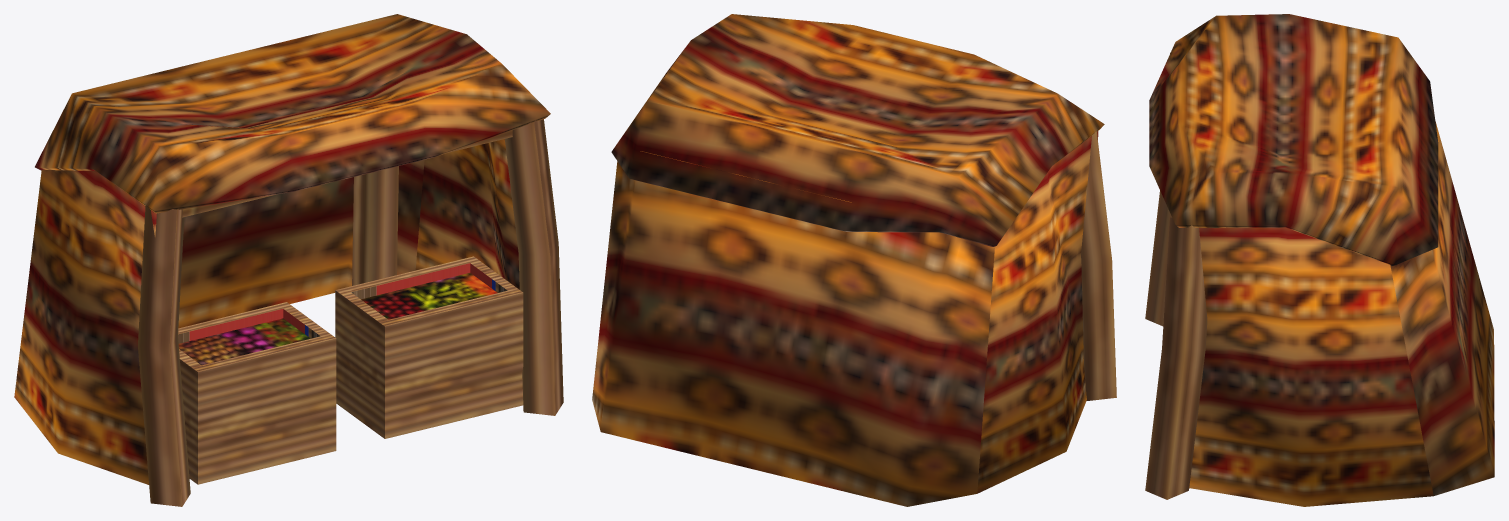
The model's file is market_stall_large.dae.
3 renders of one model, left to right at view 1: azimuth 30°, elevation 25°; view 2: azimuth 150°, elevation 25°; view 3: azimuth 270°, elevation 25°, orthographic. The views are drawn at different scales.
Visible parts, largest first — view 1: Cube; view 2: Cube; view 3: Cube.
Boxes of the visible parts, x1,y1,x2,y2 form: Cube: (14,14,563,506); Cube: (592,14,1116,506); Cube: (1145,14,1494,506).
Bounding box in the file's own units: 7.61 × 5.4 × 5.32.
